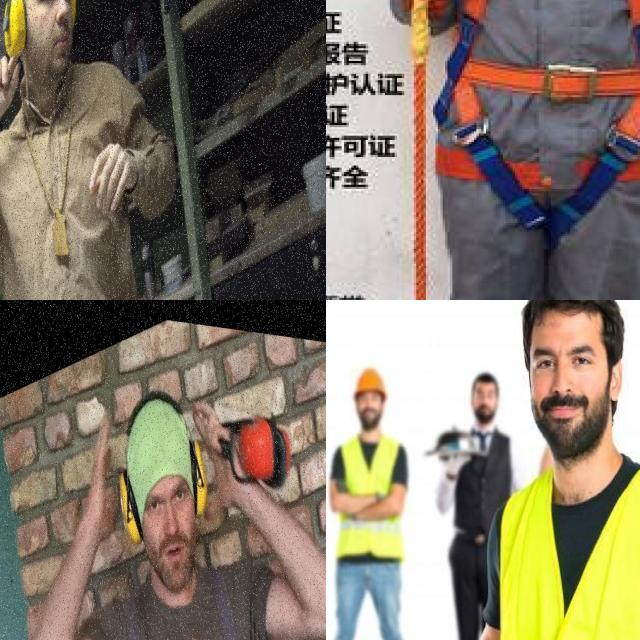Ear-protection: (183, 430, 213, 529), (116, 463, 144, 552), (0, 0, 34, 67)
Harness: (465, 0, 640, 227)
No_Glasses: (527, 340, 601, 380)
face_nomask: (519, 345, 604, 443), (353, 392, 385, 423), (471, 391, 498, 424)
head_helmet: (349, 368, 387, 398)
head_nohelmet: (521, 300, 626, 334), (470, 371, 504, 394)
person: (453, 300, 640, 640), (426, 338, 517, 640), (326, 344, 411, 640)
vest: (485, 460, 640, 640), (326, 430, 415, 564)
